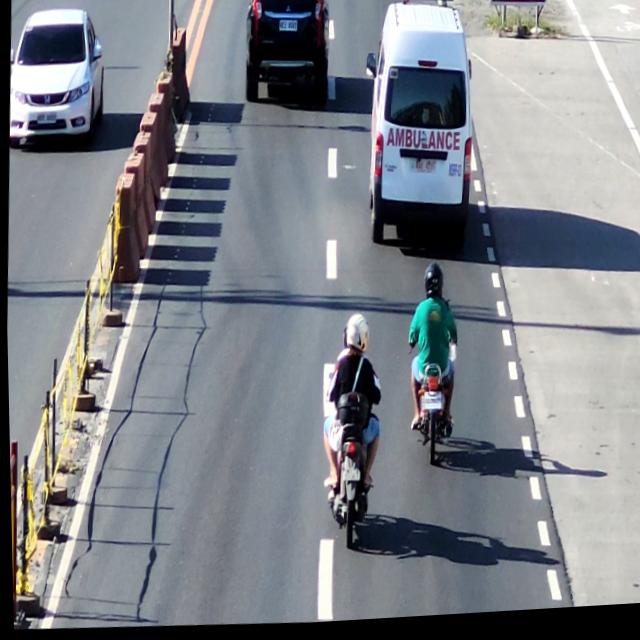Car: (363, 0, 484, 265), (239, 0, 334, 111)
License-Plate: (335, 464, 363, 490), (411, 158, 439, 182), (417, 395, 442, 416), (274, 19, 298, 39)
Motorcycle: (313, 319, 389, 560), (403, 265, 466, 481)
